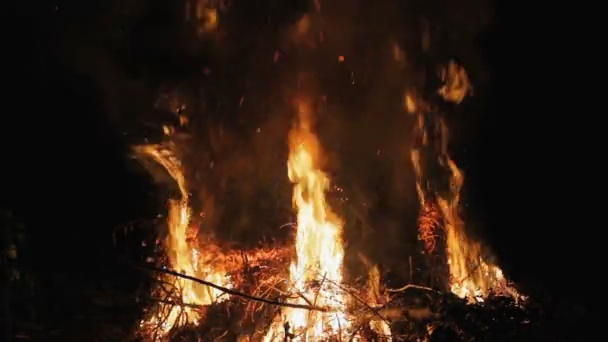fire: (412, 97, 504, 298), (287, 121, 344, 342), (165, 147, 227, 324)
